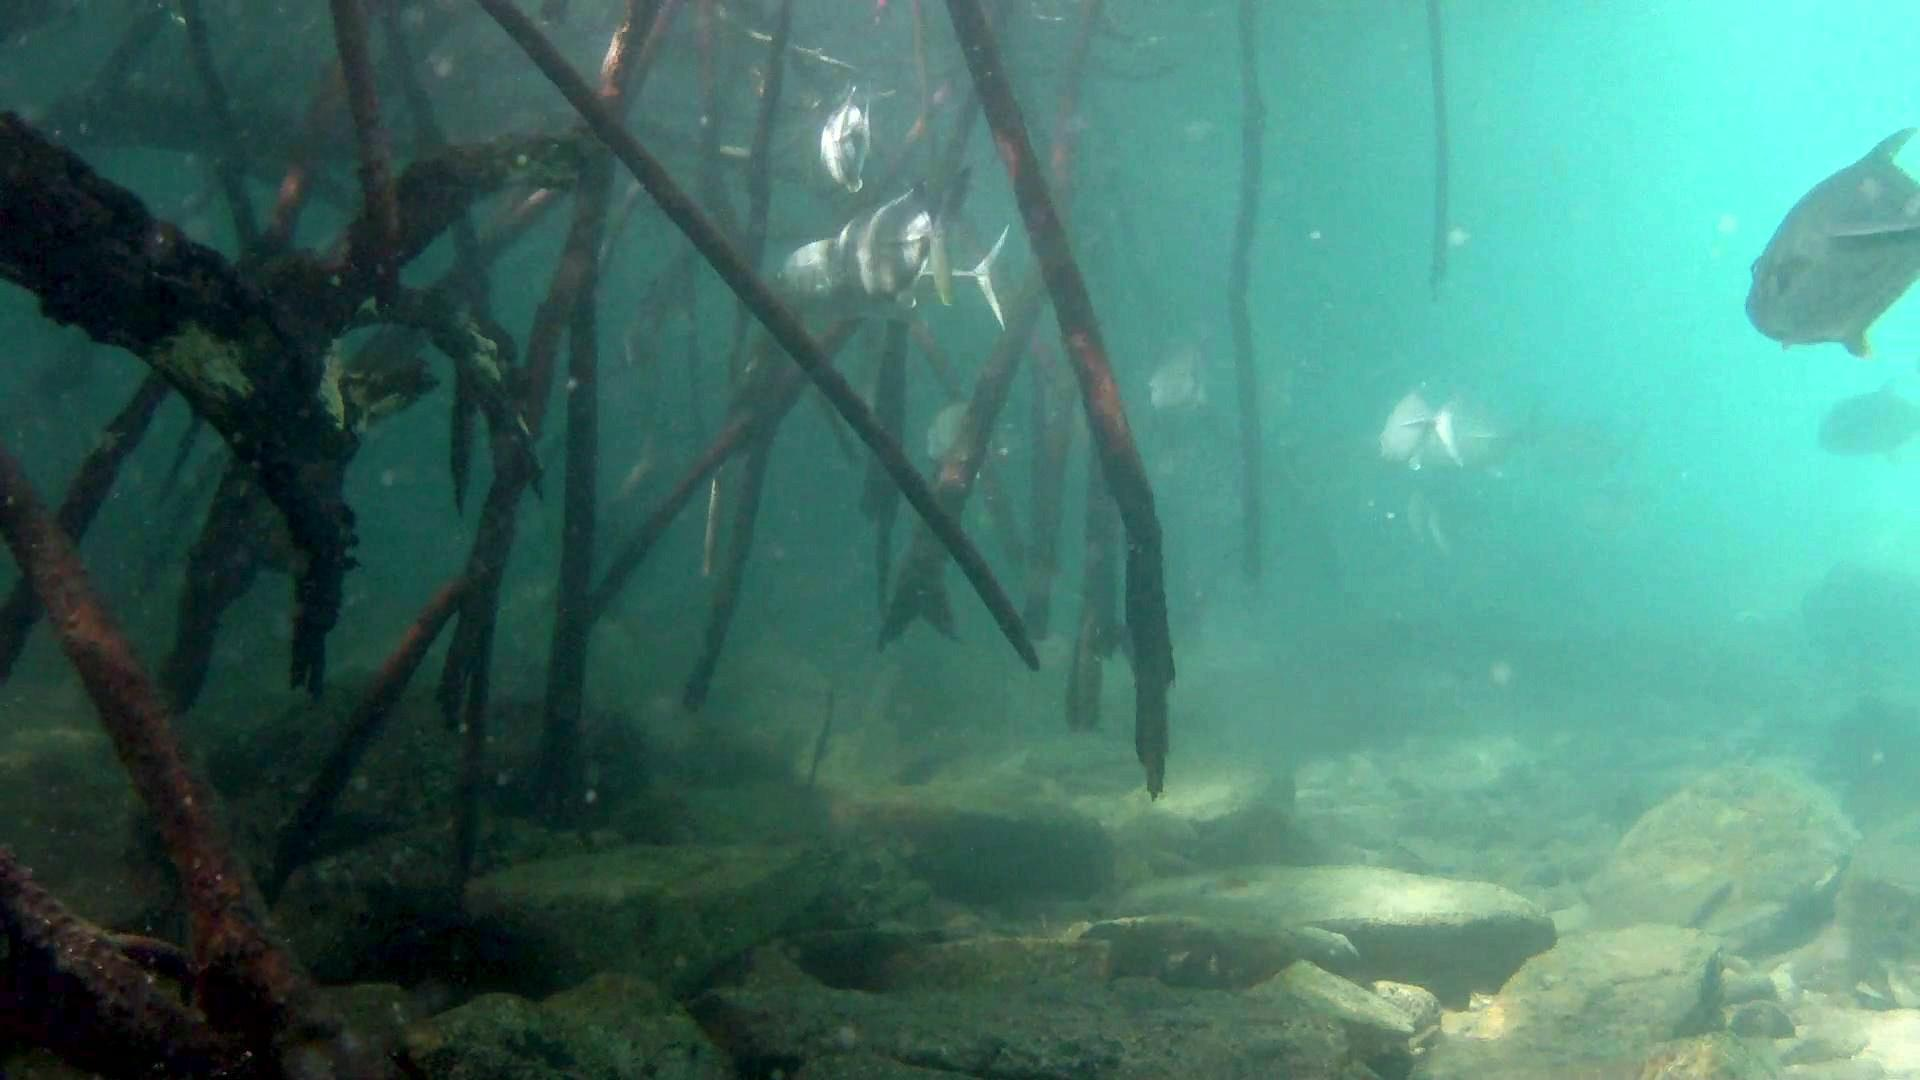caranx: (1728, 116, 1920, 379), (811, 168, 981, 324)
